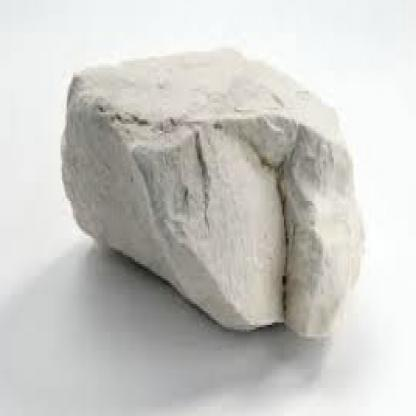Sedimentary_Chalk: (58, 40, 374, 336)
